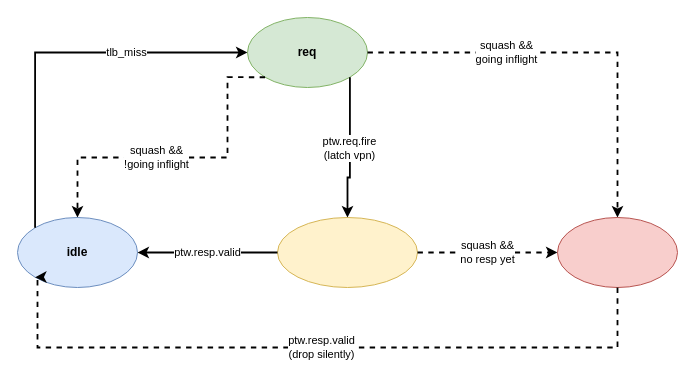
This 695x378 diagram has some shape labels left out. The box of each missing label's shape, as (x1, y1, x2, y2) in pixels:
drain: (556, 216, 678, 288)
waitResp: (276, 216, 418, 288)
